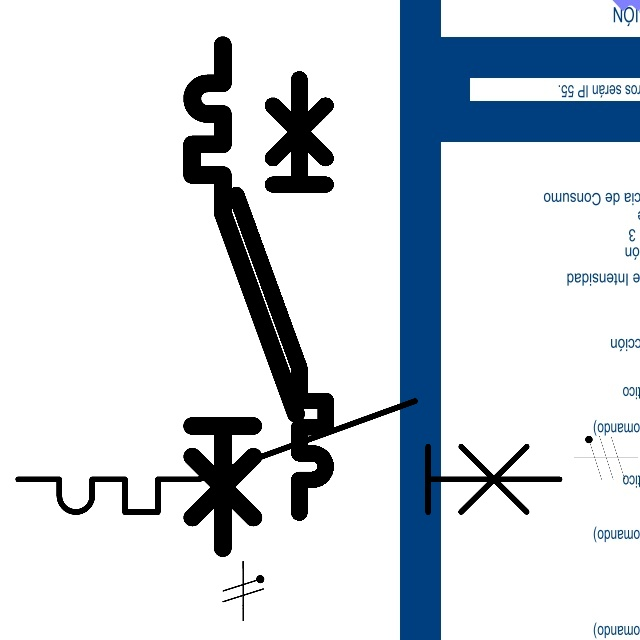interruptor_termomagnetico: (4, 387, 573, 526), (179, 32, 308, 561), (225, 68, 337, 524)
